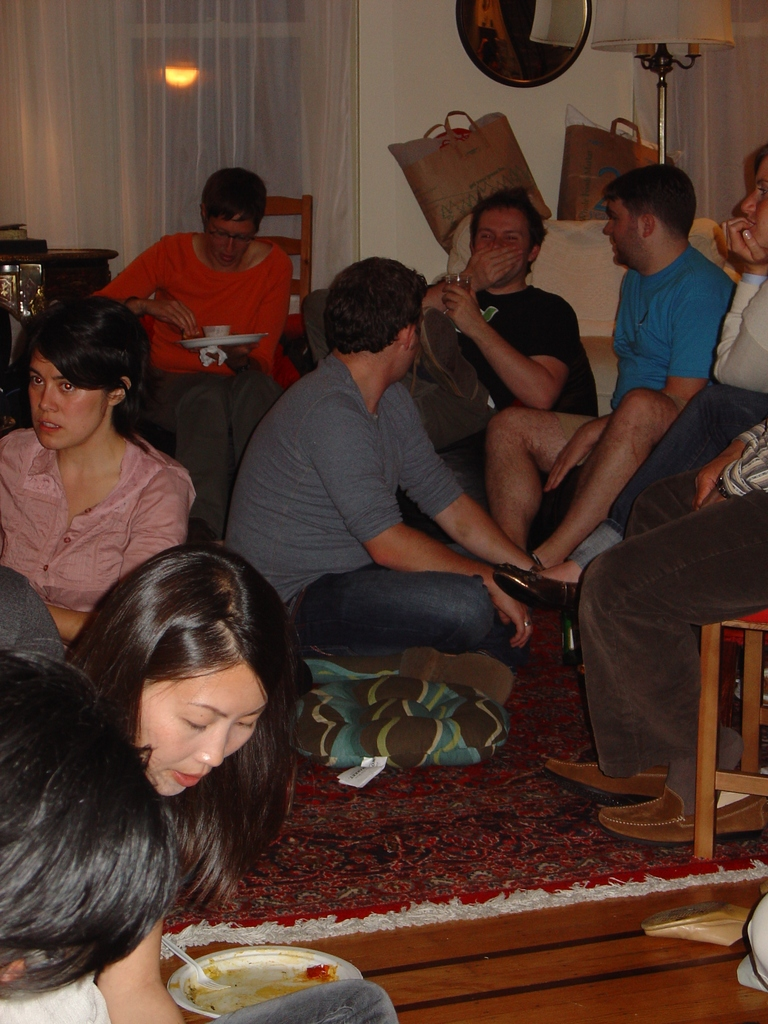Footwear: (601, 785, 767, 848), (394, 652, 512, 707), (541, 762, 673, 803), (487, 562, 584, 616)
